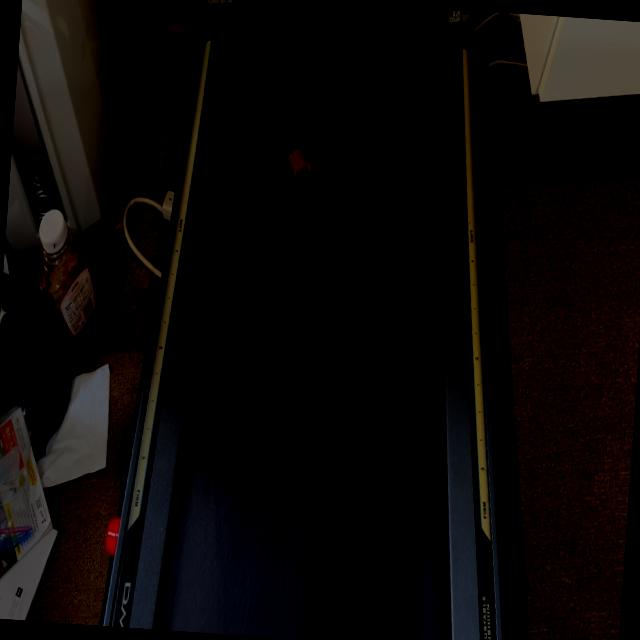Trash: (285, 146, 314, 178)
